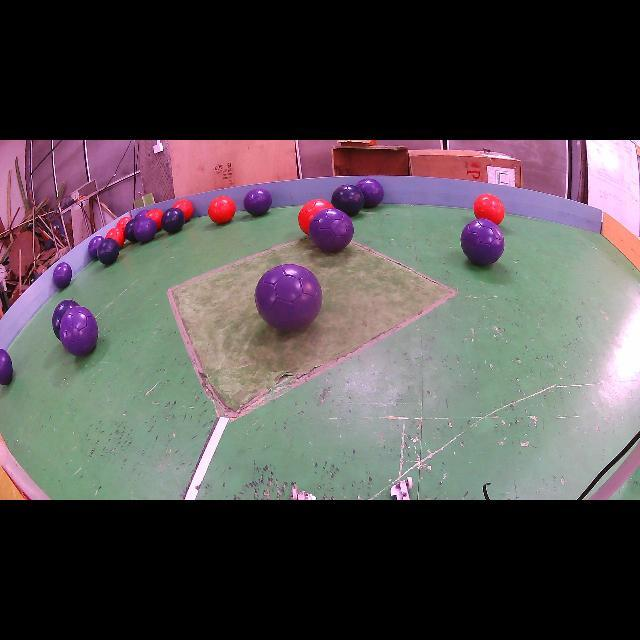B: (331, 184, 365, 216), (52, 300, 79, 340), (98, 238, 120, 265), (161, 208, 185, 232), (124, 219, 138, 242)
P: (255, 264, 322, 330), (460, 219, 505, 265), (309, 208, 354, 252), (60, 306, 99, 356), (356, 179, 384, 207), (244, 189, 272, 216), (134, 216, 158, 242), (52, 262, 72, 289), (0, 349, 12, 384), (88, 235, 104, 259), (135, 210, 149, 218)
R: (299, 199, 334, 234), (474, 194, 505, 225), (209, 196, 236, 224), (172, 199, 194, 221), (145, 209, 164, 231), (105, 228, 125, 248), (116, 216, 132, 230)
